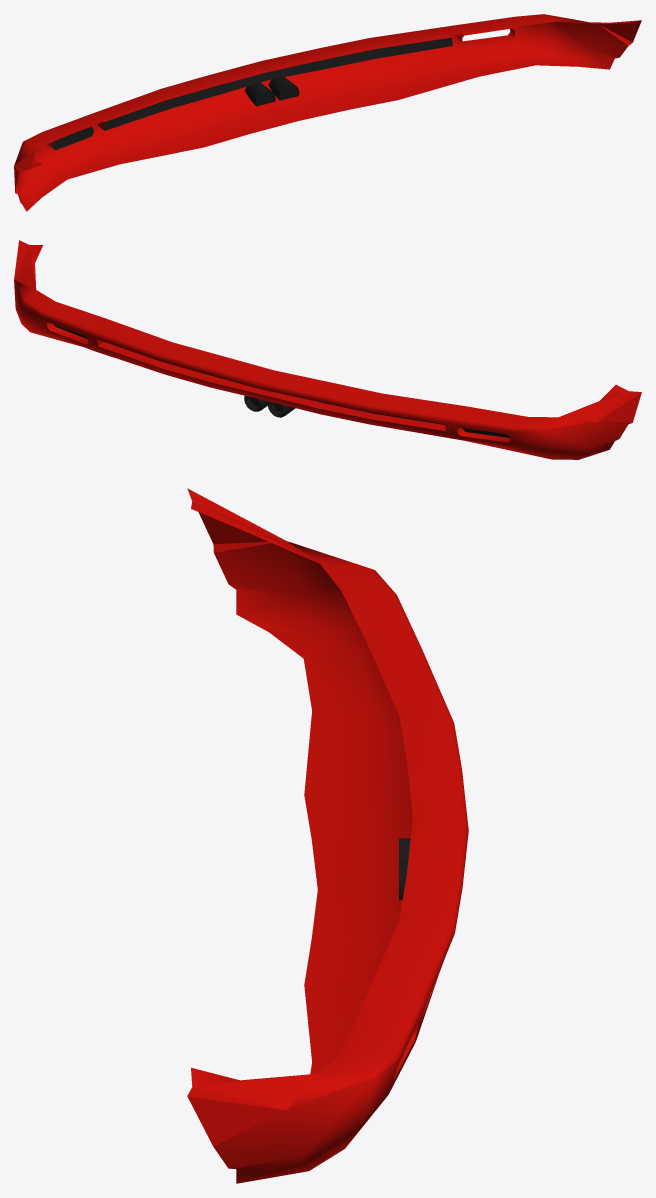
File: Classic_2_Bumper_B_2.fbx
The picture shows the model from 3 angles, top to bottom: view 1: azimuth 30°, elevation 25°; view 2: azimuth 150°, elevation 25°; view 3: azimuth 270°, elevation 25°; orthographic projection. The views are drawn at different scales.
Parts seen in each view (by area): view 1: Classic_2_Bumper_B_2; view 2: Classic_2_Bumper_B_2; view 3: Classic_2_Bumper_B_2.
Part boxes in pixels (box(x1,y1,x2,y2)): Classic_2_Bumper_B_2: box(14, 14, 641, 211); Classic_2_Bumper_B_2: box(14, 240, 641, 459); Classic_2_Bumper_B_2: box(187, 488, 468, 1183).
Size of the model in its own units: 311 by 26.46 by 60.86.
